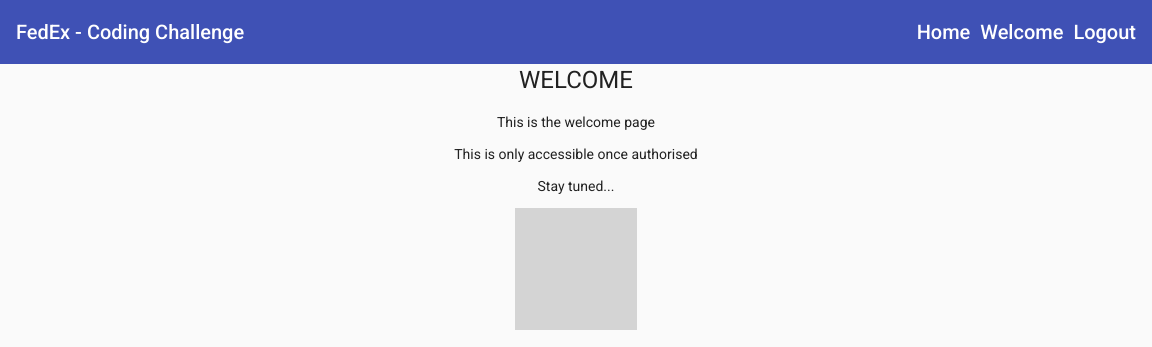
it: Login Page › log out succesfully
The width and height of the screenshot is (1152, 347).
Click the link with id "logout" at (1105, 32), box [1073,20,1136,44]
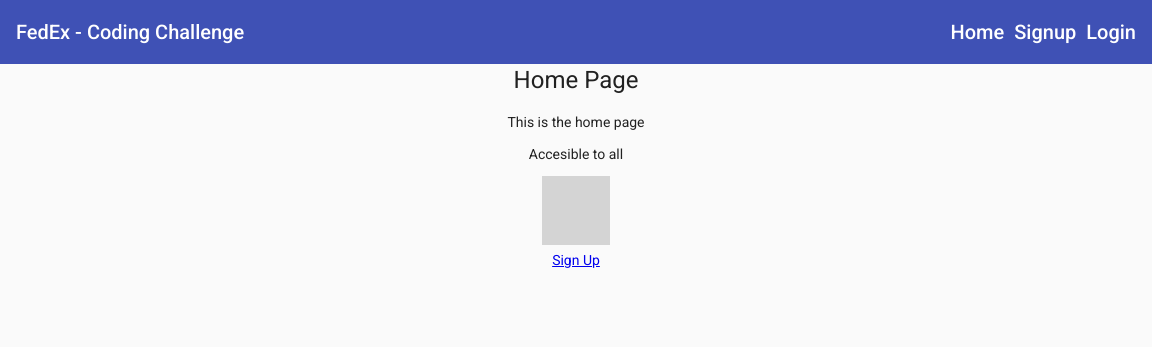
Now the heading "Home Page" is shown, box [508,64,645,96]
